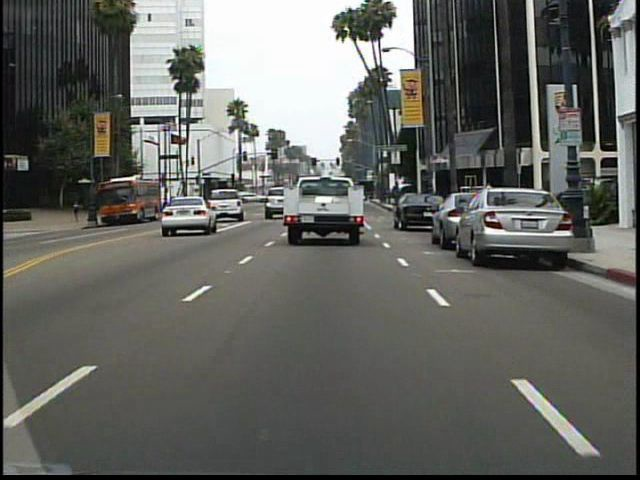person: (481, 179, 498, 221), (71, 194, 87, 229)
